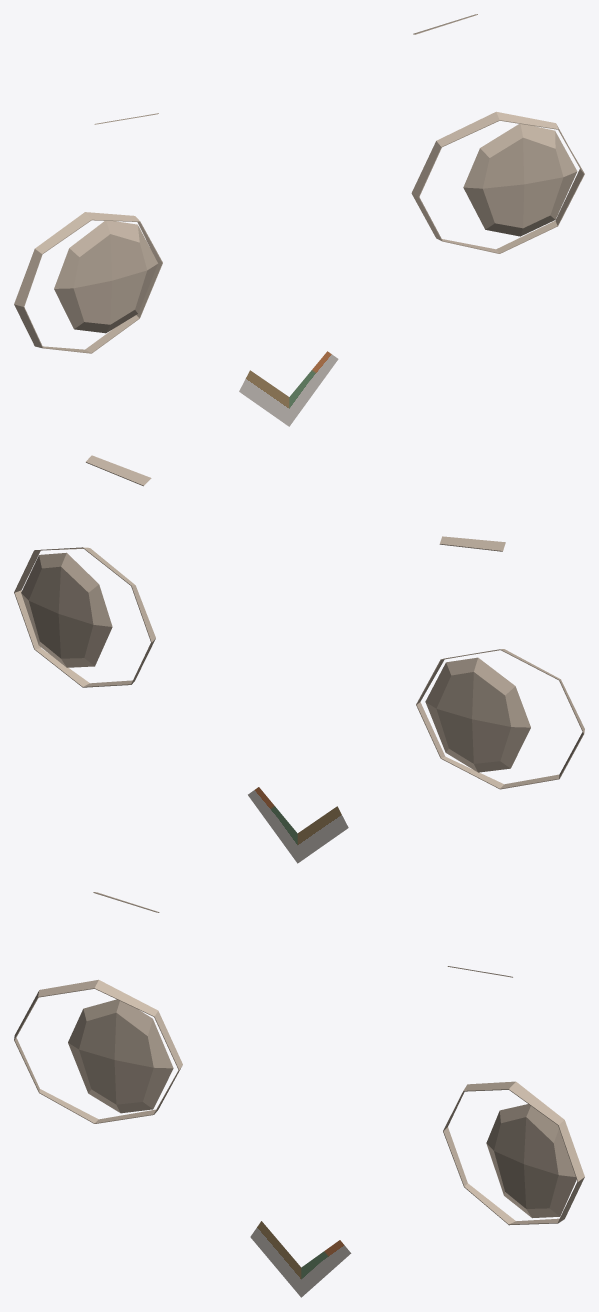
File: Expression_normal.fbx
3 views of the same model, one above another, from view 1: azimuth 30°, elevation 25°; view 2: azimuth 150°, elevation 25°; view 3: azimuth 330°, elevation 25° (orthographic).
Visible parts, largest first — view 1: normal_Roundcube_014; view 2: normal_Roundcube_014; view 3: normal_Roundcube_014.
Boxes of the visible parts, box(x1,y1,x2,y2) form: normal_Roundcube_014: box(14, 14, 584, 426); normal_Roundcube_014: box(14, 455, 584, 863); normal_Roundcube_014: box(14, 892, 584, 1297).
Size of the model in its own units: 13.32 by 8.12 by 1.04.
Materials: 1 (1 with a texture image).
